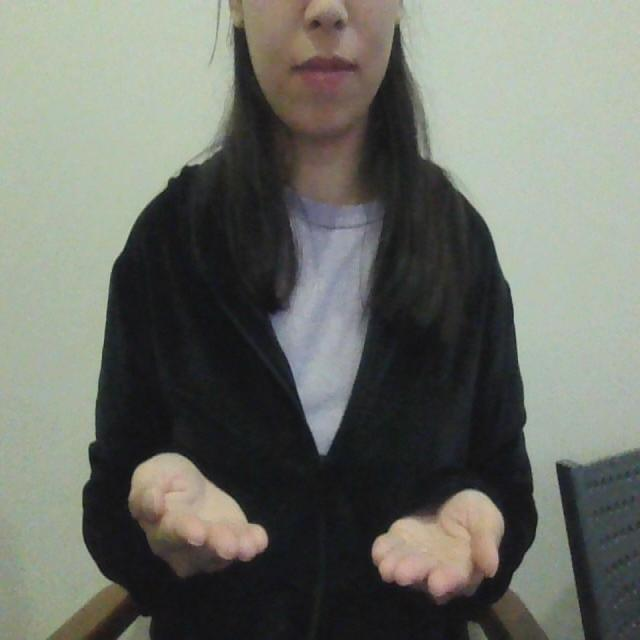Evet: (123, 448, 510, 610)
